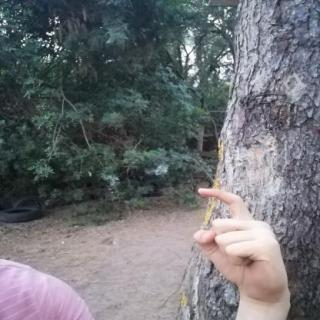RAA: (182, 181, 306, 304)
